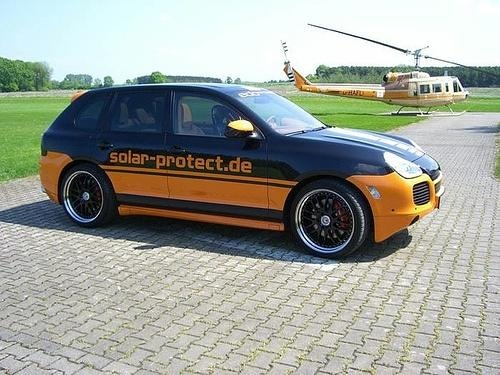car: (40, 82, 447, 261)
